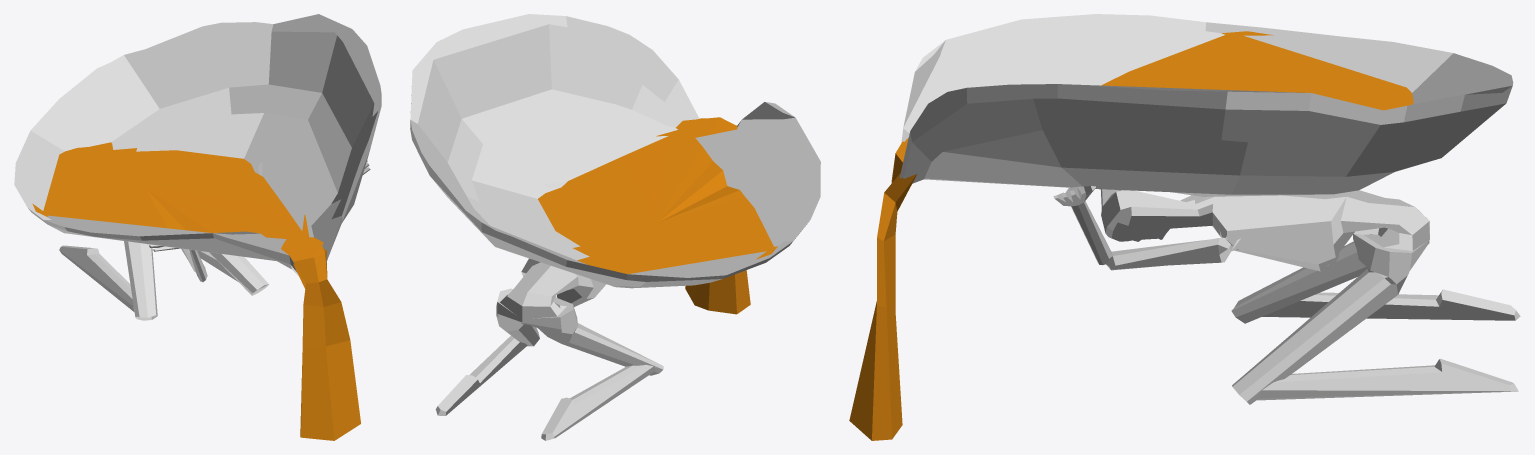
Rendered from fonte de areia.fbx.
The picture shows the model from 3 angles, left to right: view 1: azimuth 30°, elevation 25°; view 2: azimuth 150°, elevation 25°; view 3: azimuth 270°, elevation 25°; orthographic projection. The views are drawn at different scales.
Parts seen in each view (by area): view 1: corpo.004, liquido, liquido2, pote; view 2: corpo.004, liquido, pote, liquido2; view 3: corpo.004, pote, liquido, liquido2.
Boxes of the visible parts, bbox=[...] form: corpo.004: bbox=[14, 14, 381, 275]; liquido: bbox=[32, 142, 323, 258]; liquido2: bbox=[292, 246, 360, 440]; pote: bbox=[59, 160, 370, 320]; corpo.004: bbox=[410, 14, 820, 288]; liquido: bbox=[538, 117, 777, 277]; pote: bbox=[435, 258, 663, 440]; liquido2: bbox=[685, 118, 750, 314]; corpo.004: bbox=[899, 14, 1513, 196]; pote: bbox=[1053, 186, 1520, 404]; liquido: bbox=[896, 31, 1413, 155]; liquido2: bbox=[849, 141, 916, 440].
Size of the model in its own units: 696 by 607 by 840.
